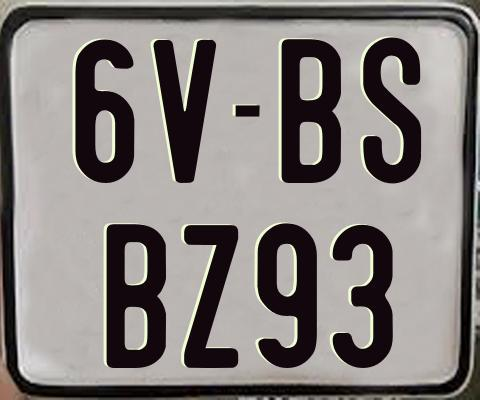3: (330, 223, 394, 371)
6: (72, 37, 137, 187)
9: (257, 221, 323, 370)
B: (281, 36, 342, 185), (104, 224, 164, 370)
S: (363, 37, 423, 188)
V: (151, 40, 215, 184)
Z: (183, 223, 243, 371)
